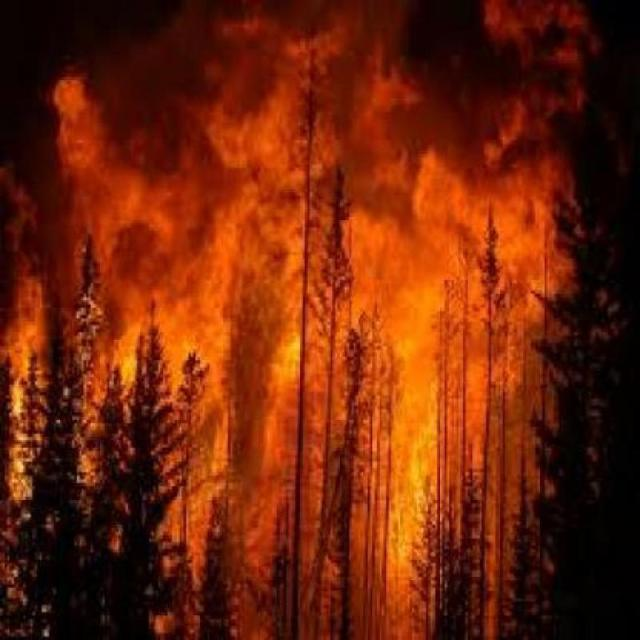Fire: (4, 27, 638, 640)
